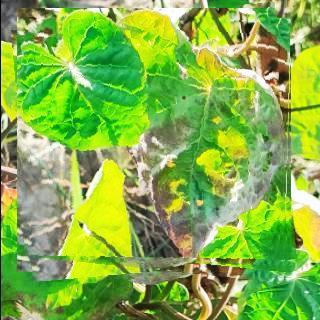curl: (16, 8, 291, 283)
